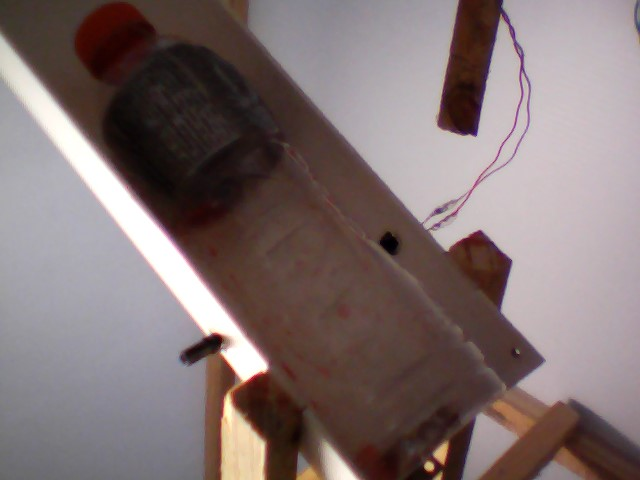plastico: (66, 1, 512, 479)
